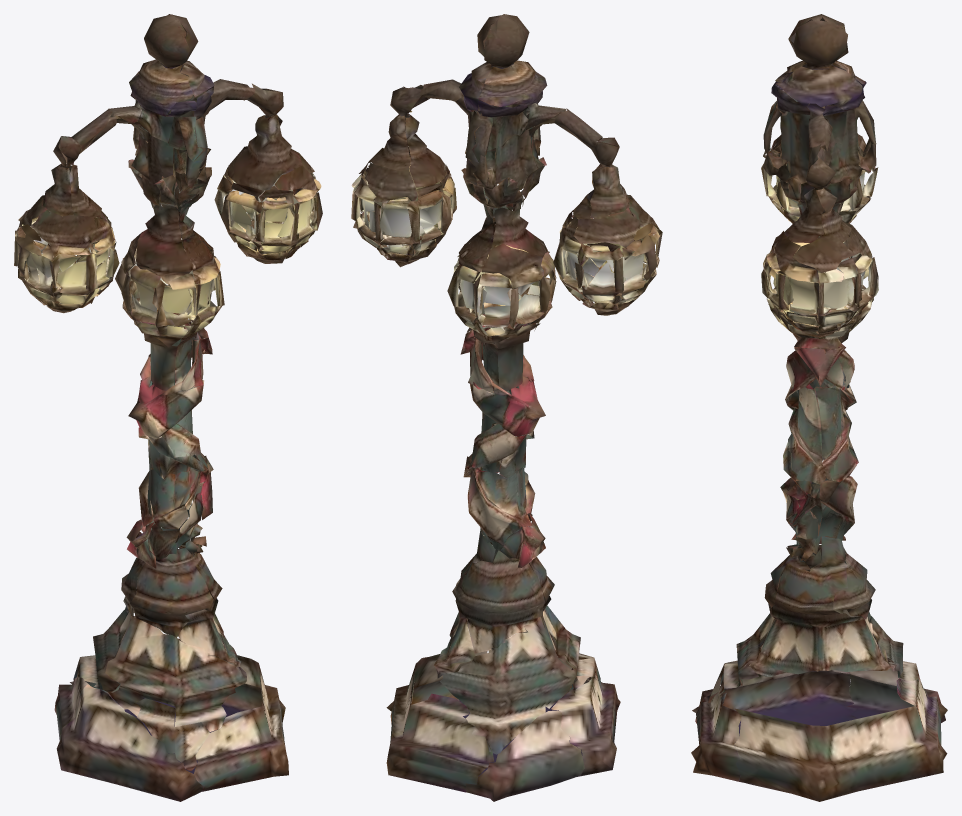
Rendered from prop_fair_lamp_post.glb.
3 renders of one model, left to right at view 1: azimuth 30°, elevation 25°; view 2: azimuth 150°, elevation 25°; view 3: azimuth 270°, elevation 25°, orthographic.
Parts seen in each view (by area): view 1: Mesh_0; view 2: Mesh_0; view 3: Mesh_0.
Boxes of the visible parts, bbox=[...] form: Mesh_0: bbox=[14, 14, 322, 801]; Mesh_0: bbox=[351, 14, 662, 801]; Mesh_0: bbox=[691, 14, 947, 801].
Size of the model in its own units: 0.3998 by 0.9278 by 0.2954.
Materials: 1 (1 with a texture image).
